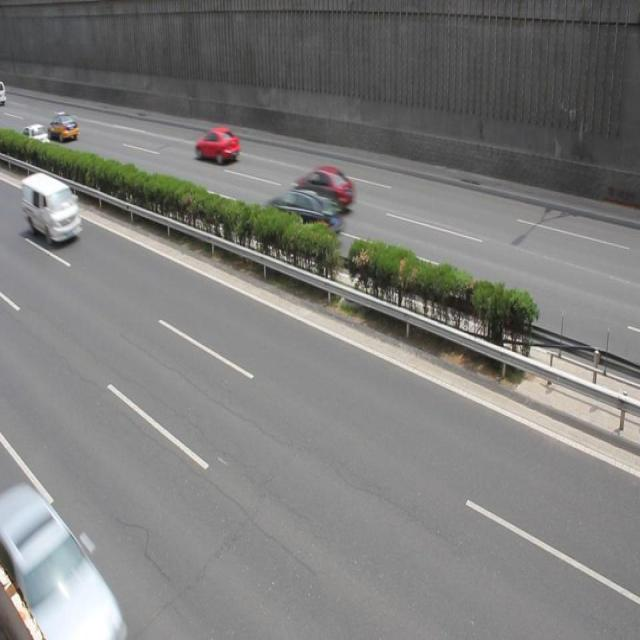car: (261, 186, 345, 254), (292, 166, 355, 212), (195, 126, 240, 164), (47, 110, 78, 142), (20, 124, 49, 150)
truck: (22, 171, 82, 245)
